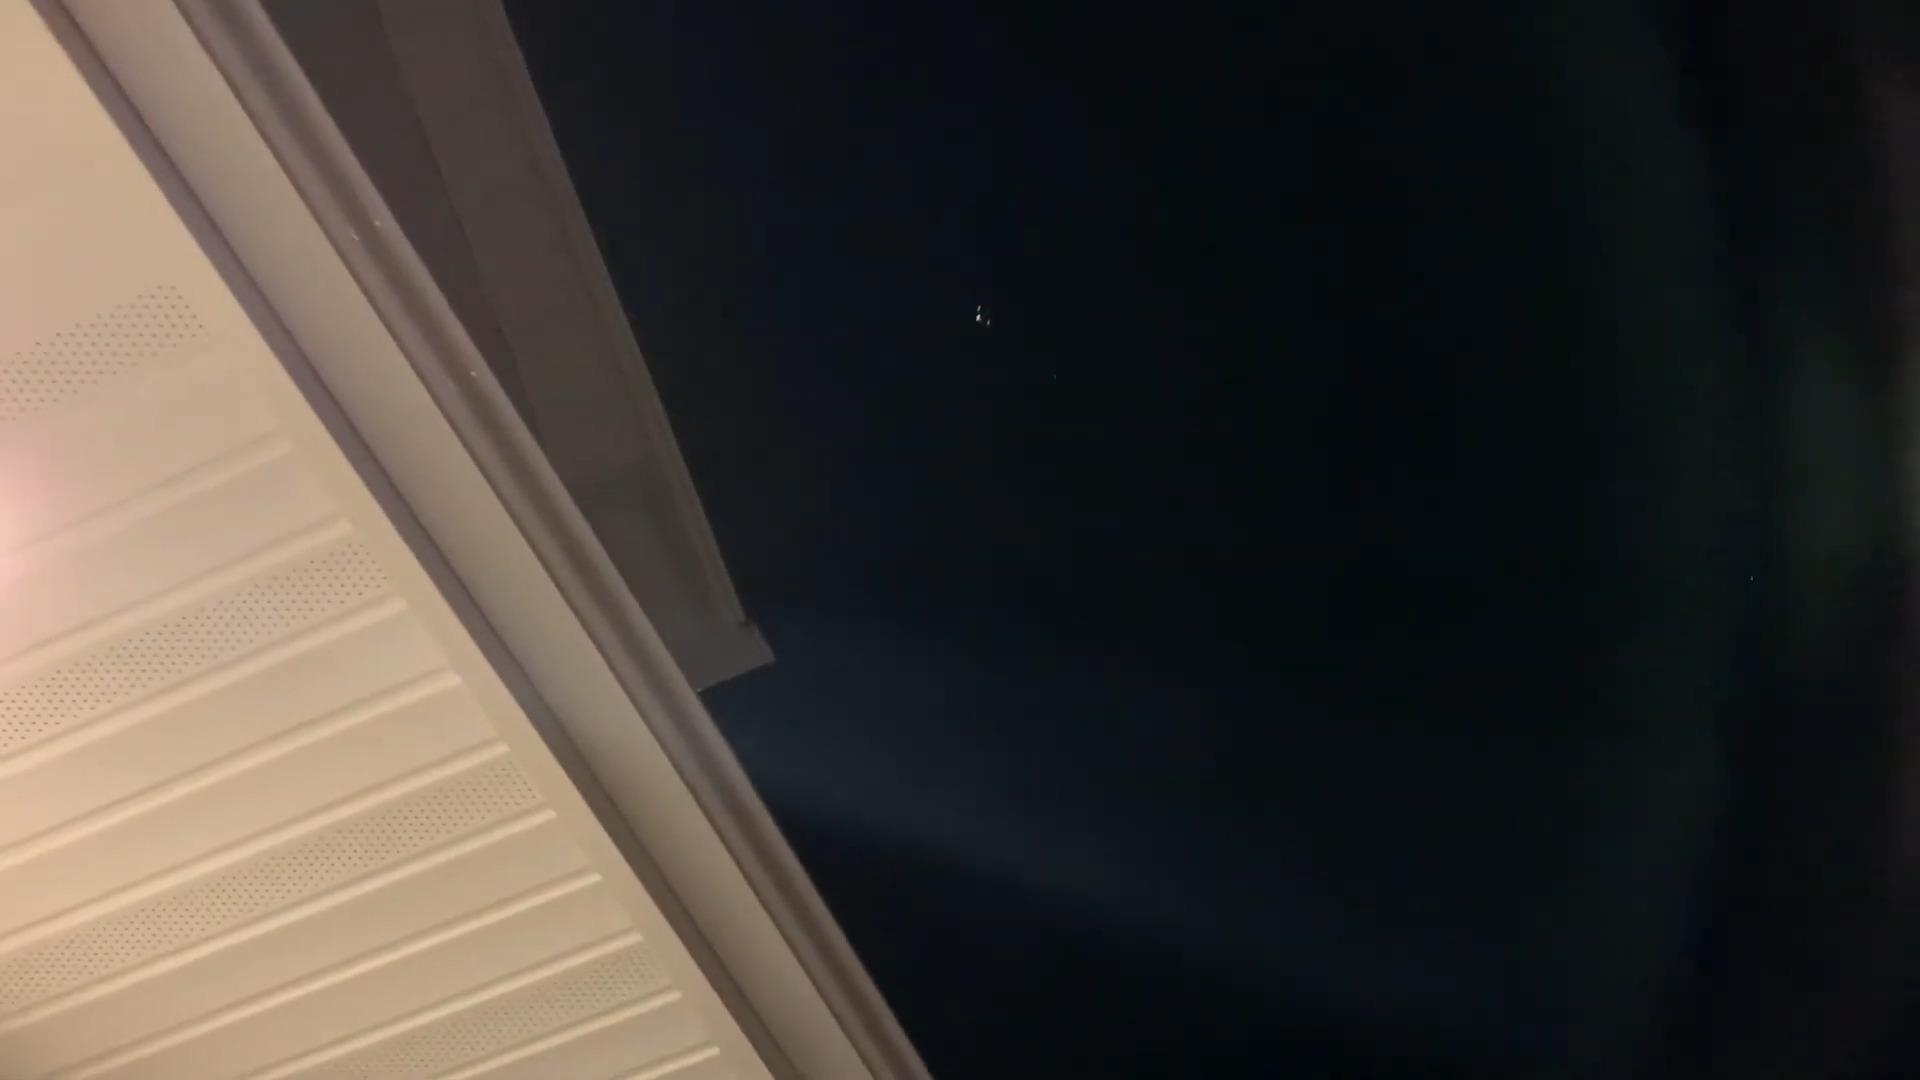Plane: (965, 291, 1005, 361)
